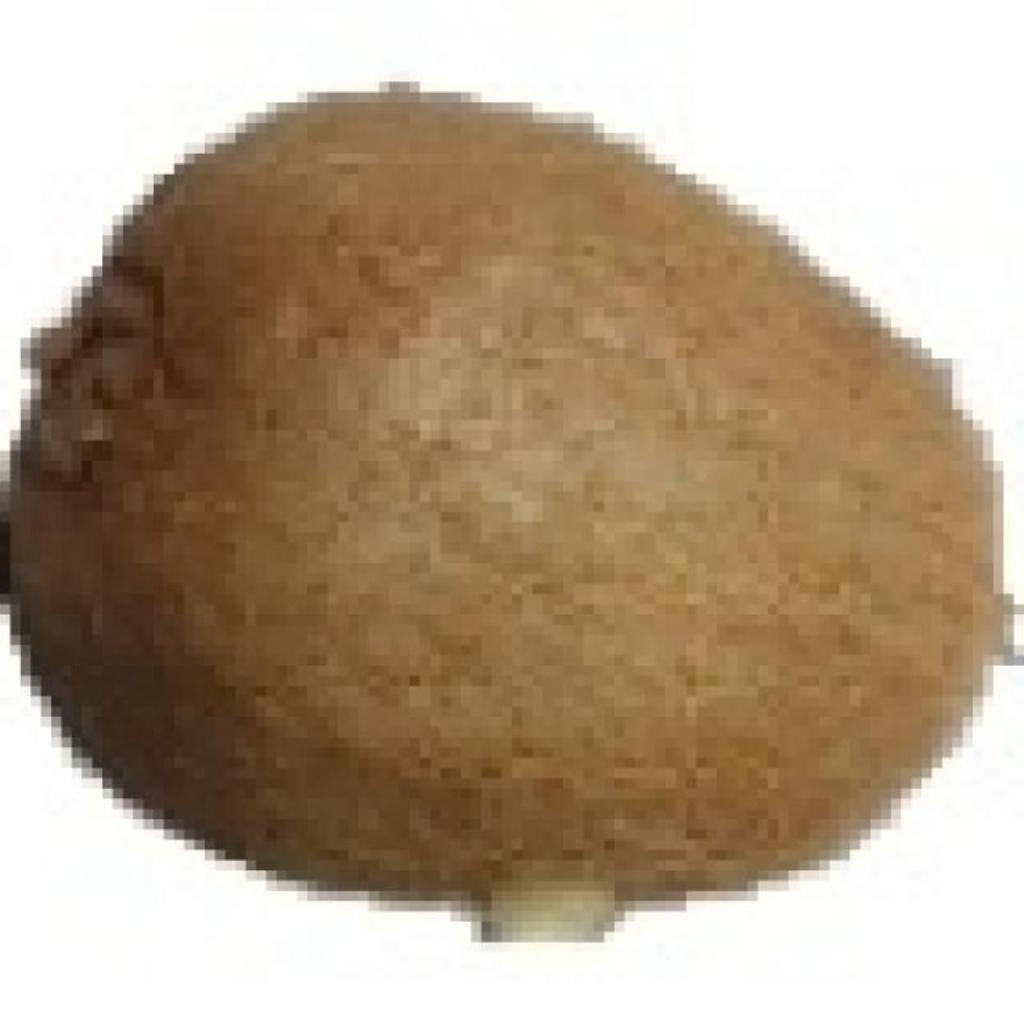kiwi: (31, 82, 1014, 922)
